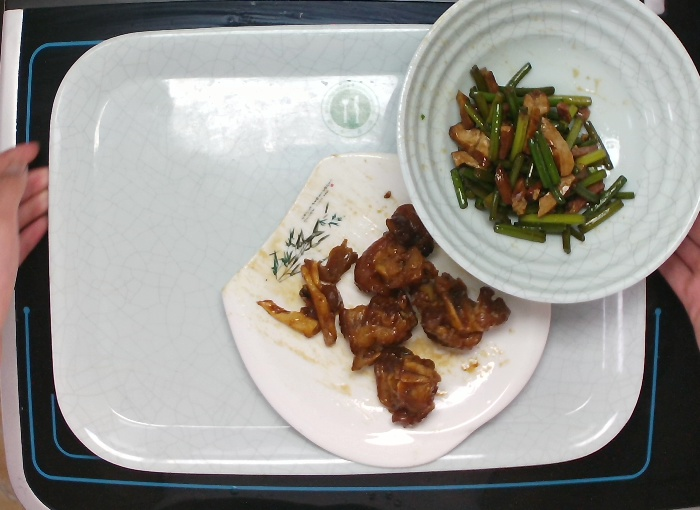JYsf-Da_Tang_Wan: (393, 1, 700, 307)
JYsf-Mian_Pan: (216, 147, 555, 473)
